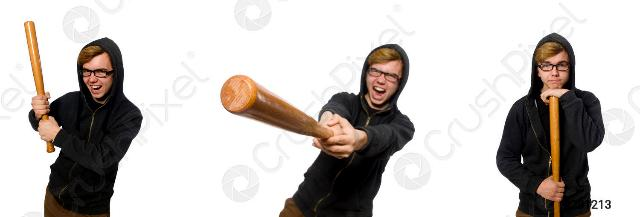baseball bat: (222, 77, 338, 143), (22, 20, 58, 154), (546, 94, 563, 217)
